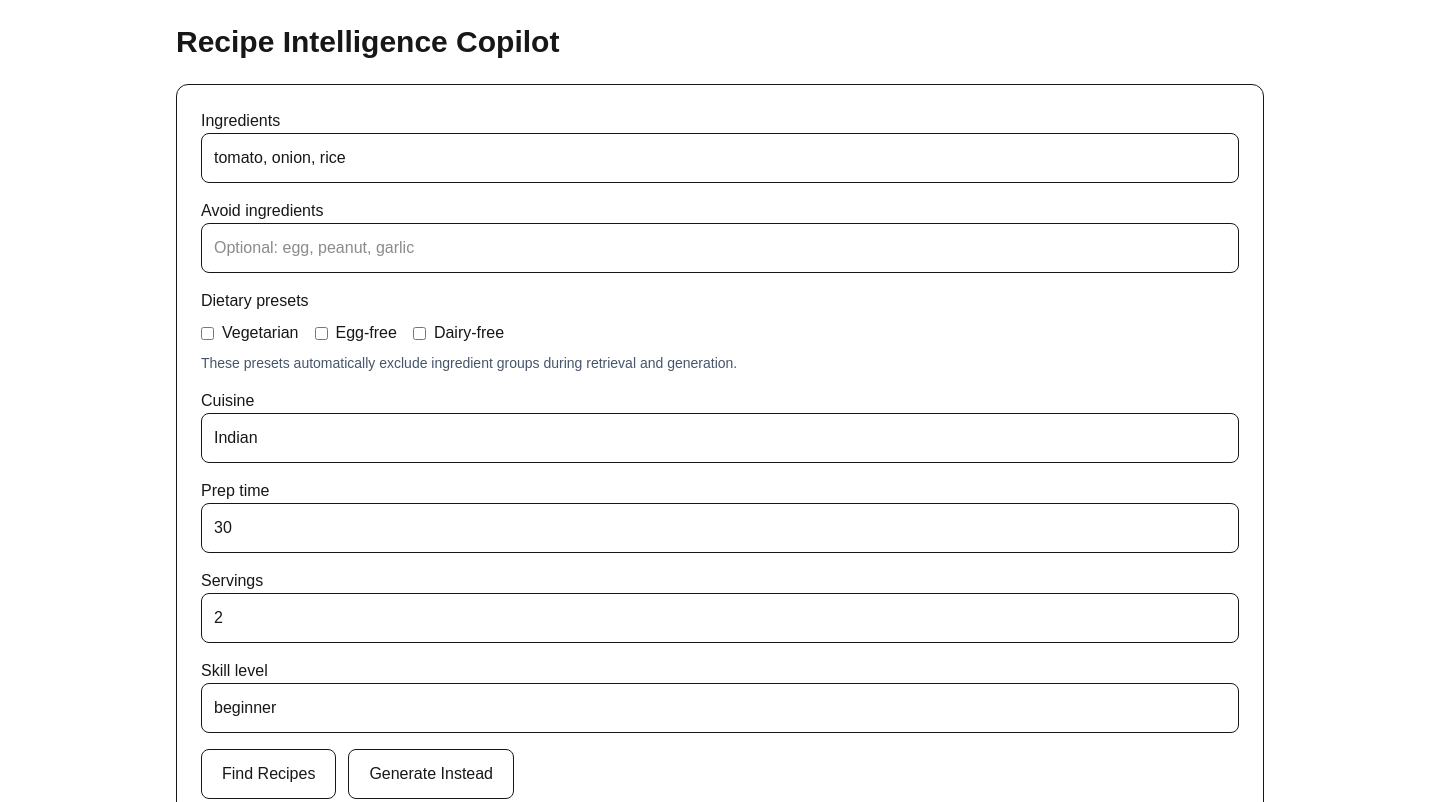
Test: Recipe page › shows generated deterministic recipe metadata
Replace the text in the field labelled "Ingredients" with "spinach, paneer". click: (720, 158)
box: [201, 133, 1239, 183]
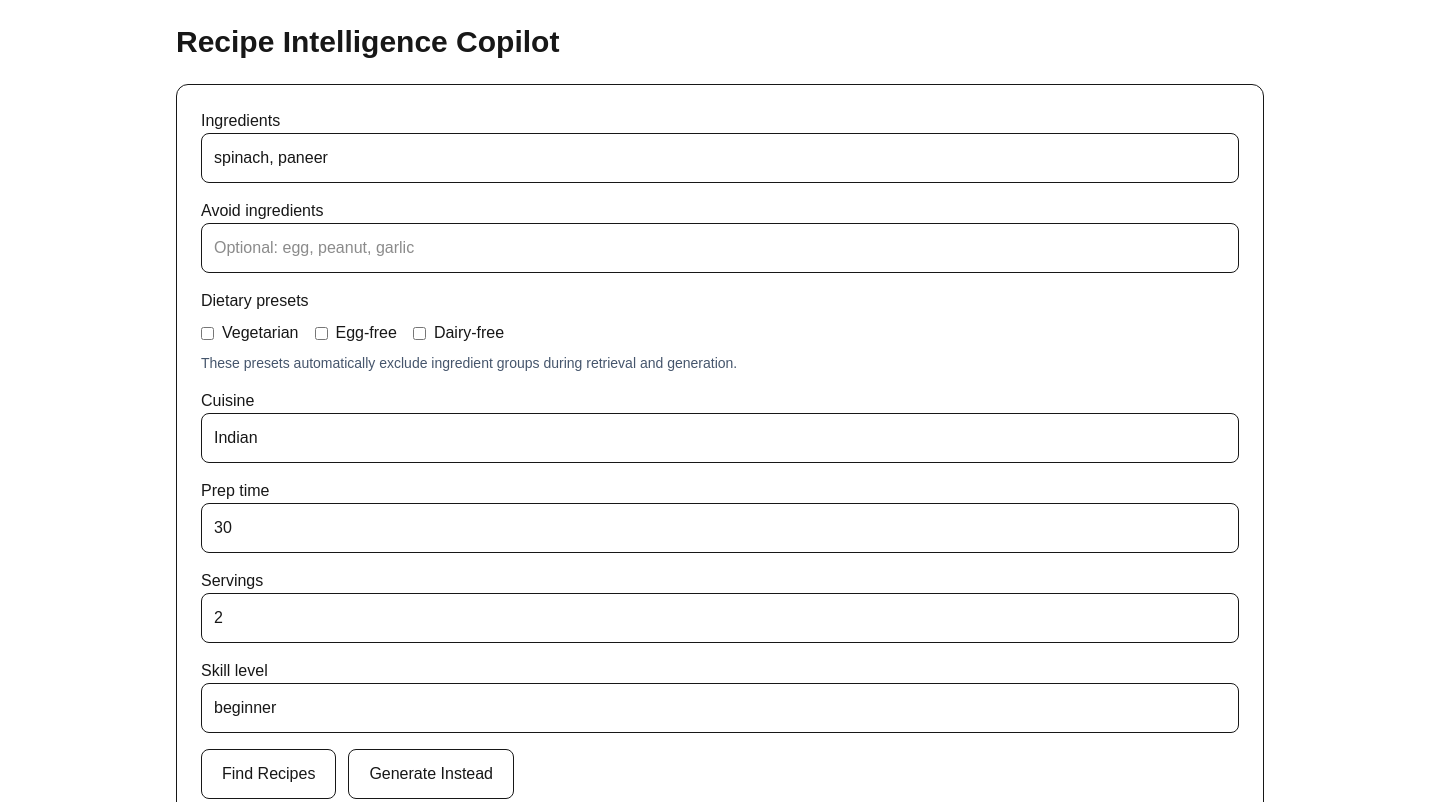
Click the button "Generate Instead". click: (431, 774)
box: [348, 749, 514, 799]
(page scrolled)
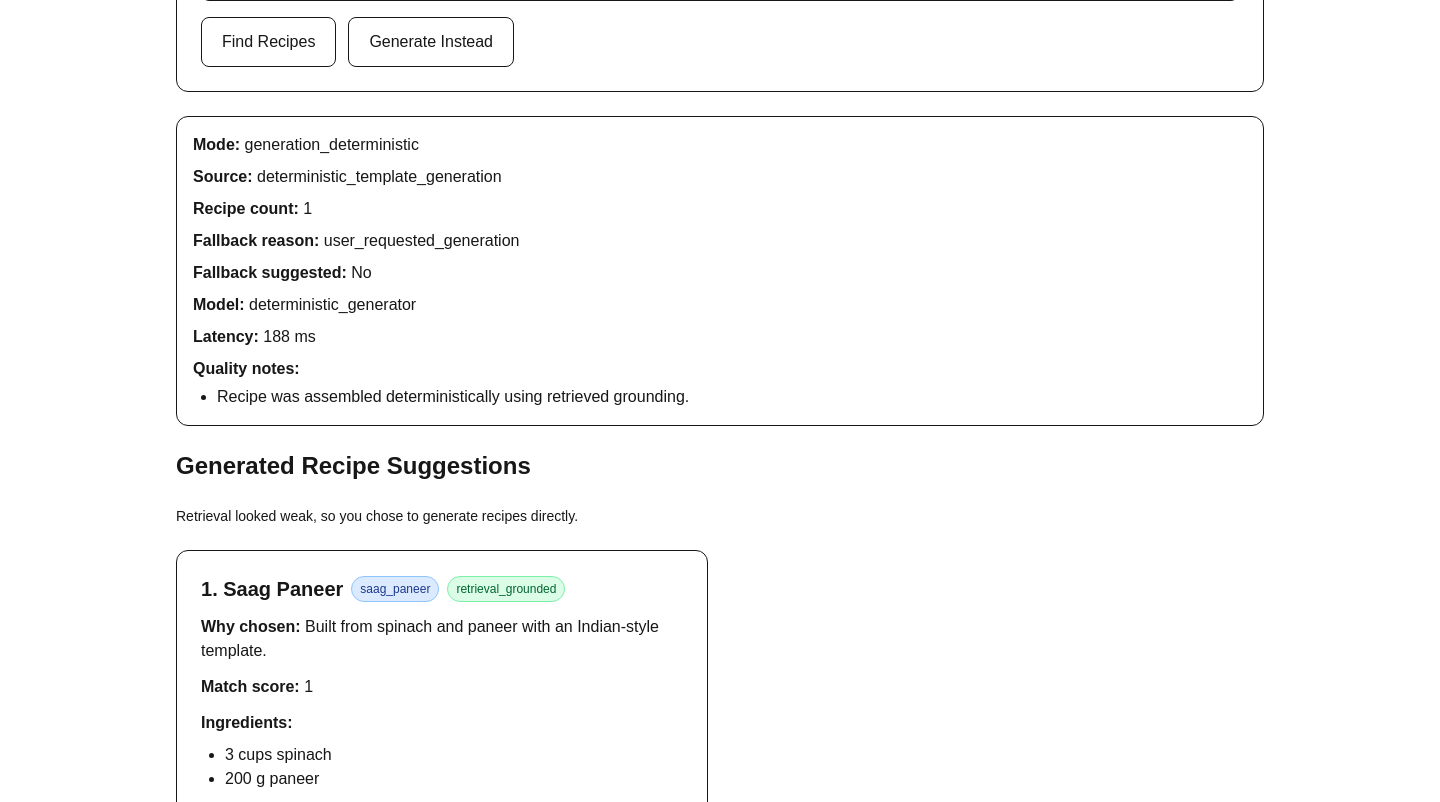
Result: the heading "1. Saag Paneer" is shown at [201, 575, 343, 603]
Result: the list item "Recipe was assembled deterministically using retrieved grounding" is shown at [217, 388, 689, 405]
